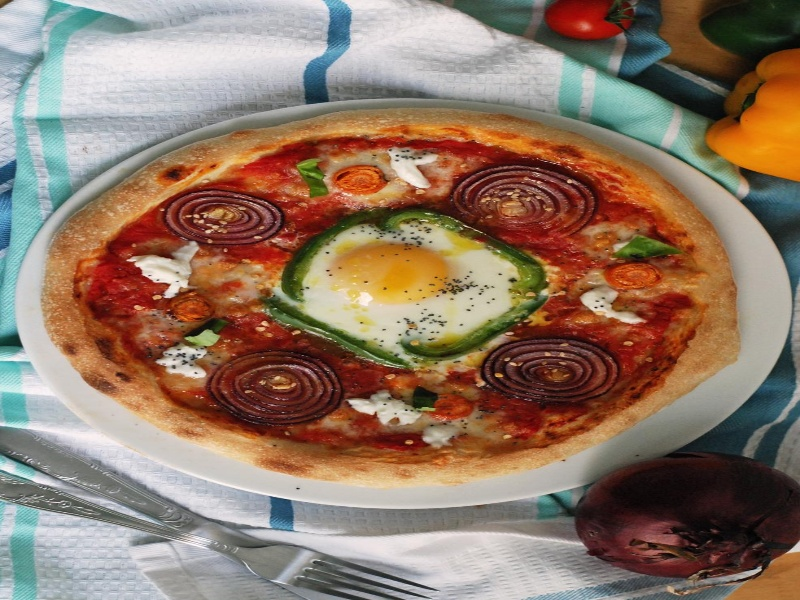oeuf: (317, 238, 475, 321)
